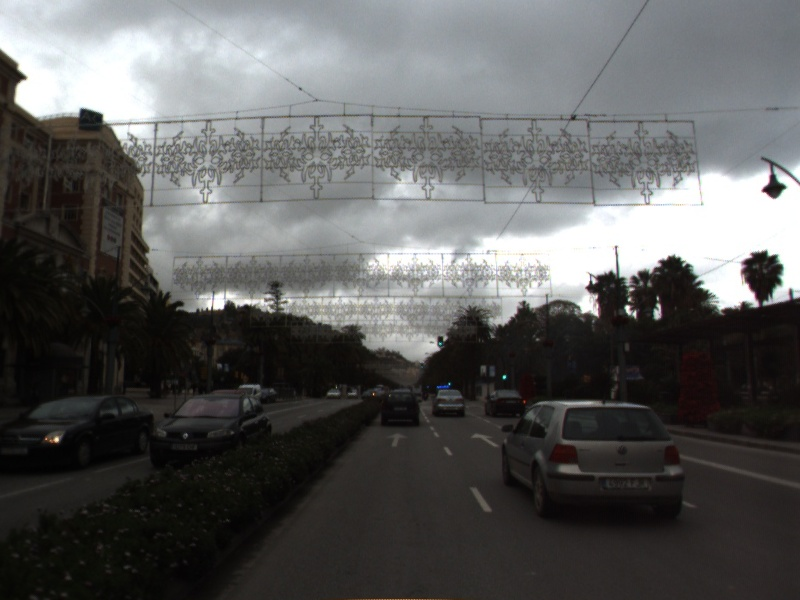STRAIGHT: (468, 431, 501, 449), (384, 431, 410, 448)
